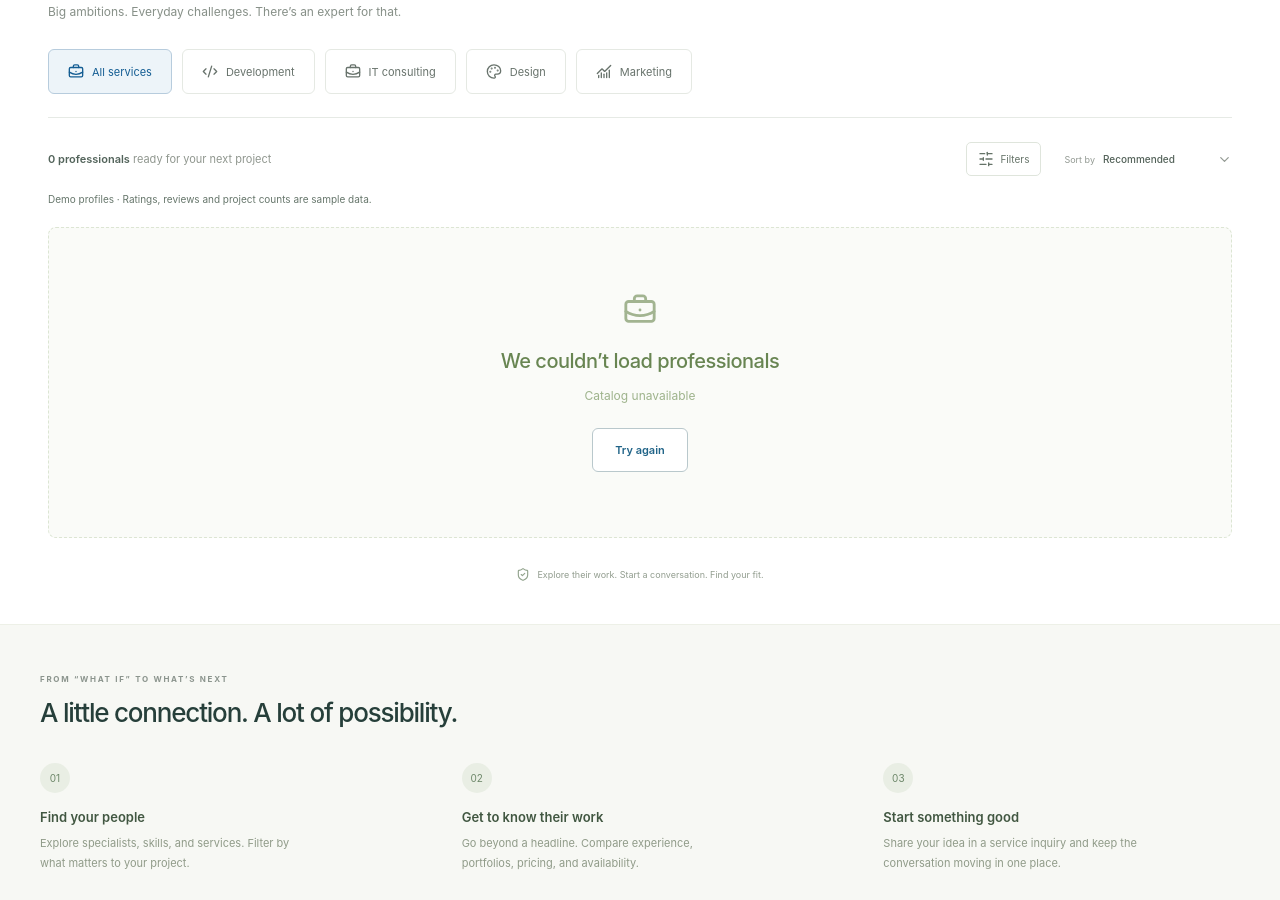
Test: marketplace journeys › shows an actionable API failure and recovers on retry
The image size is (1280, 900).
(page scrolled)
Check: the text "Catalog unavailable" is shown, box [584,388,696,402]
Click the button "Try again".
click(640, 450)  # box [592,428,688,472]
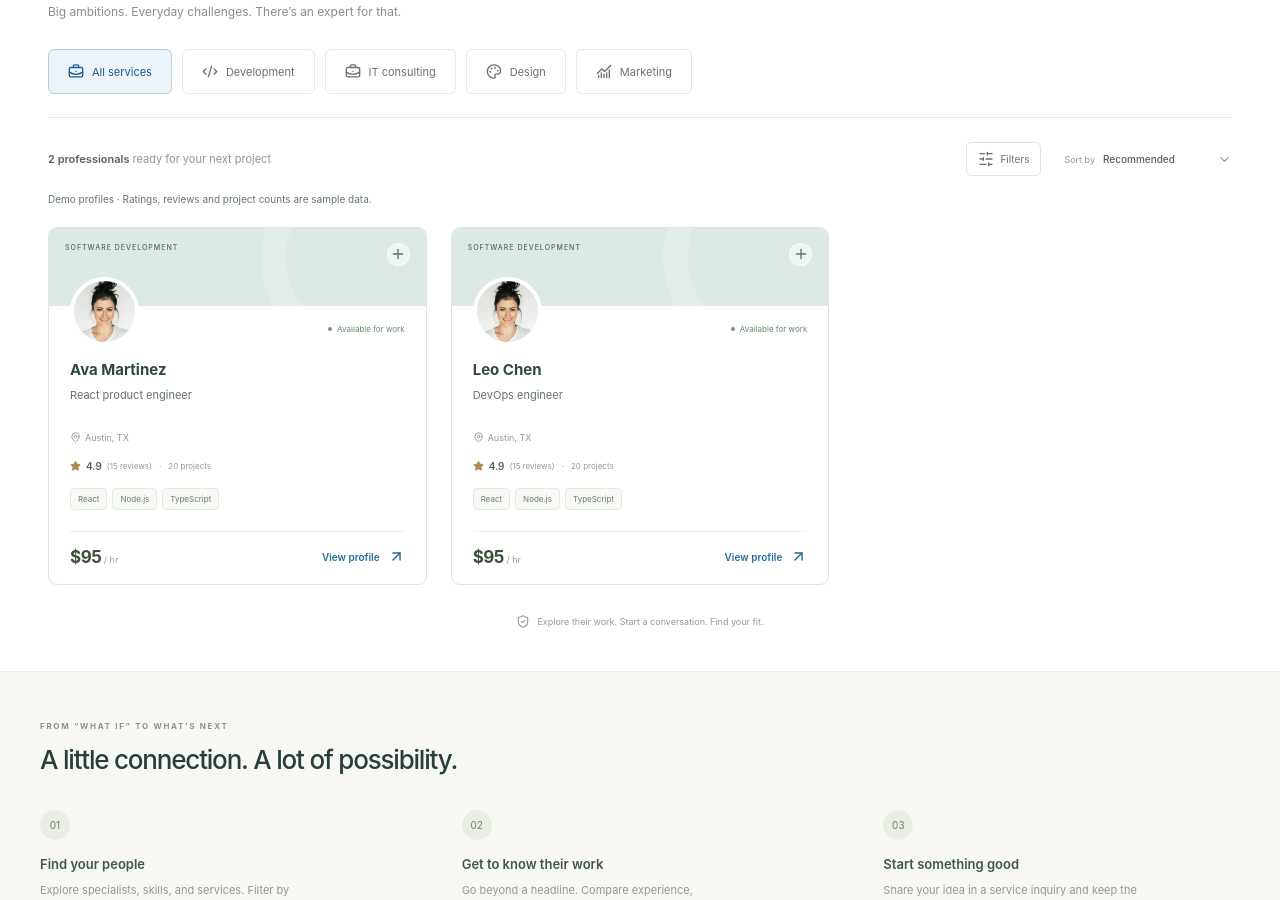
Check: the button "Ava Martinez" is shown, box [70,360,166,378]
